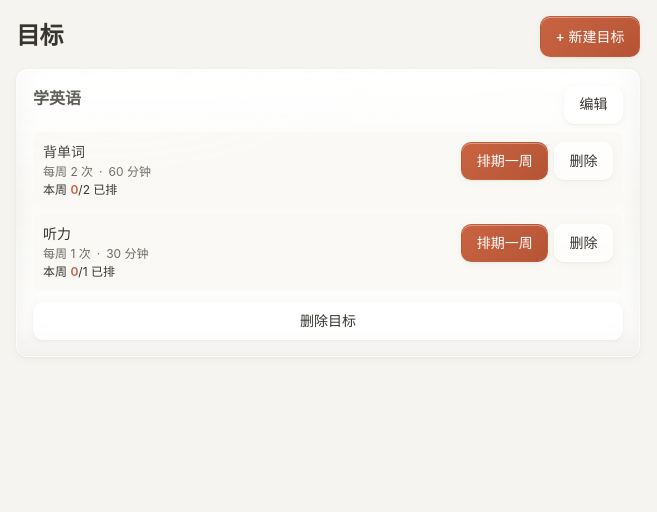
Scenario: GoalView › 删除任务：确认条显示级联数量 → 确认后任务与事件消失
Expected: the heading "学英语" is shown, top-left (33, 86), bottom-right (81, 110)
Click the button with test id "task-delete-btn" in the row of "60" at (584, 161), box top-left (554, 142), bottom-right (613, 180)
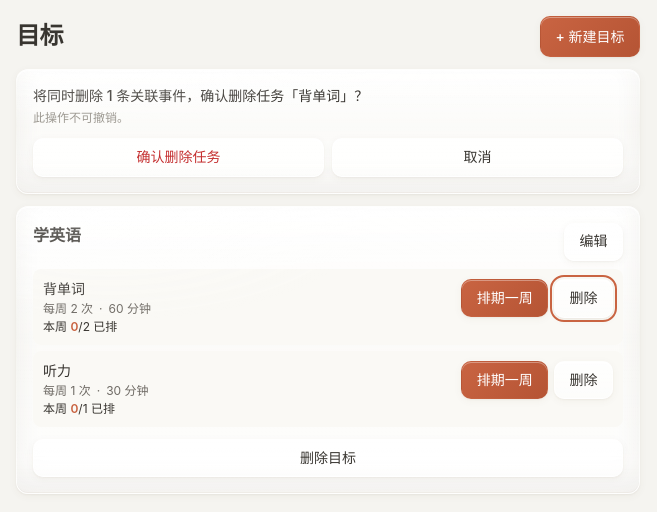
Expected: the element with test id "task-delete-confirm" shows "将同时删除 1 条关联事件", top-left (33, 87), bottom-right (200, 104)
Click the button "确认删除任务" at (178, 157), box top-left (33, 138), bottom-right (324, 177)
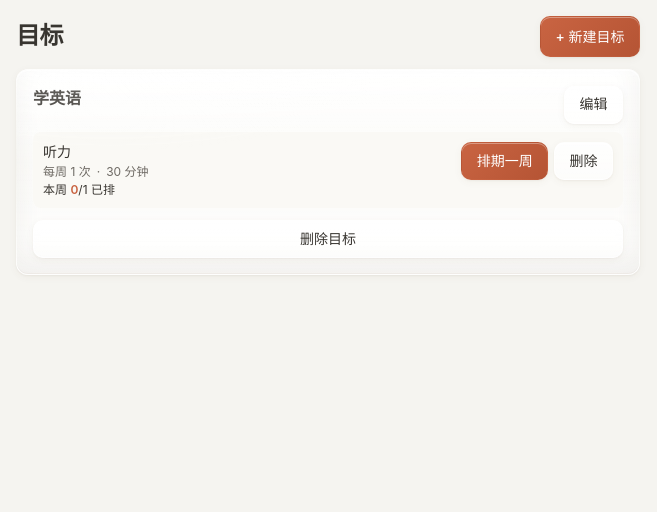
Expected: the text "听力" is shown, top-left (43, 143), bottom-right (71, 160)
Expected: the text "背单词" is gone
